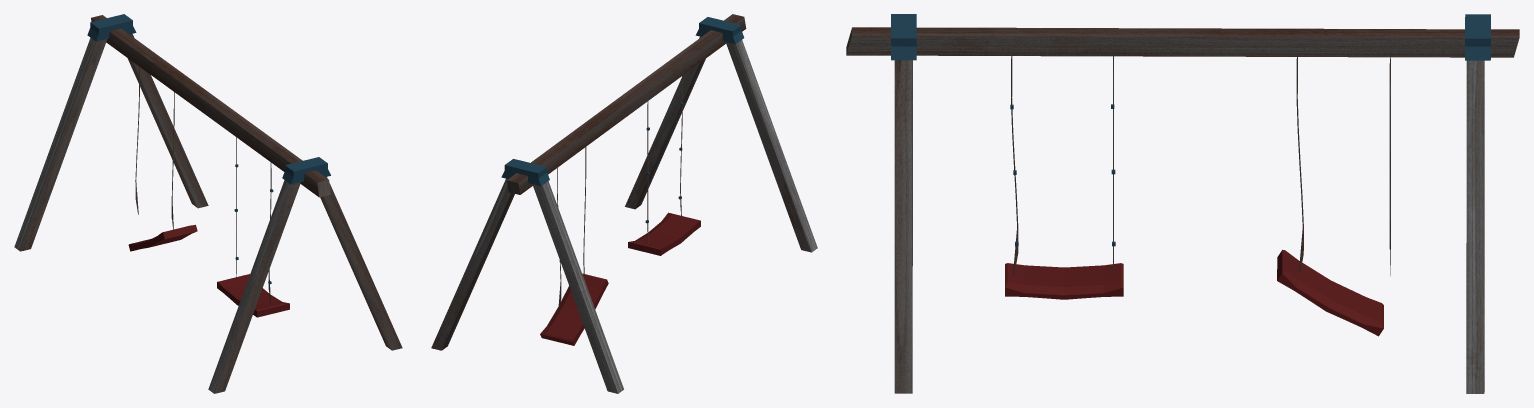
Rendered from Columpios.obj.
3 views of the same model, side by side, from view 1: azimuth 30°, elevation 25°; view 2: azimuth 150°, elevation 25°; view 3: azimuth 270°, elevation 25° (orthographic). The views are drawn at different scales.
Parts seen in each view (by area): view 1: Cube.003; view 2: Cube.003; view 3: Cube.003.
Part boxes in pixels (x1,y1,x2,y2): Cube.003: (14, 14, 402, 393); Cube.003: (431, 14, 817, 393); Cube.003: (846, 14, 1519, 393).
Size of the model in its own units: 2.87 by 2.98 by 6.04.
Materials: 4 (4 with a texture image).
